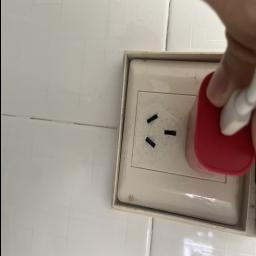outlet: (101, 47, 256, 227)
